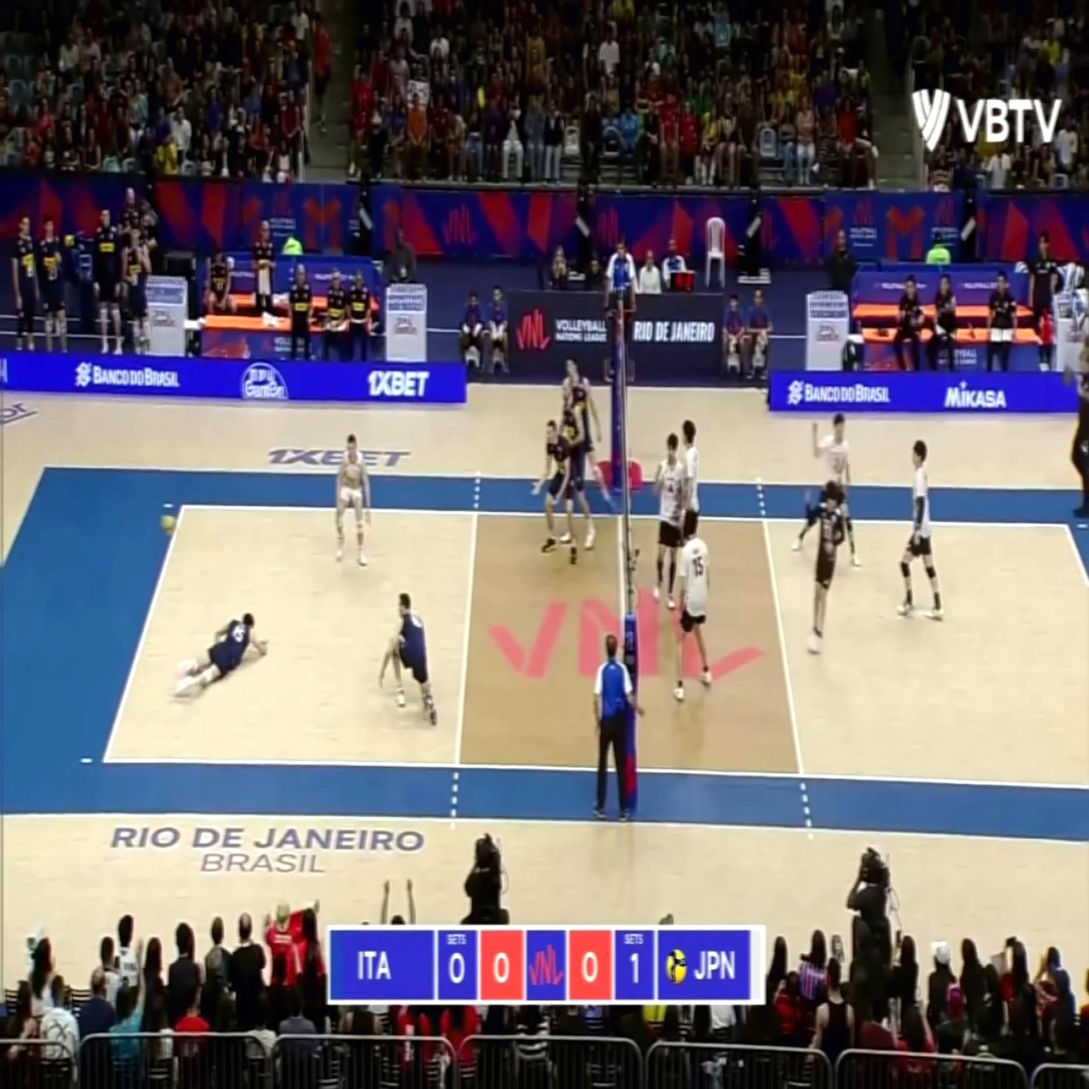ball: (161, 514, 172, 536)
